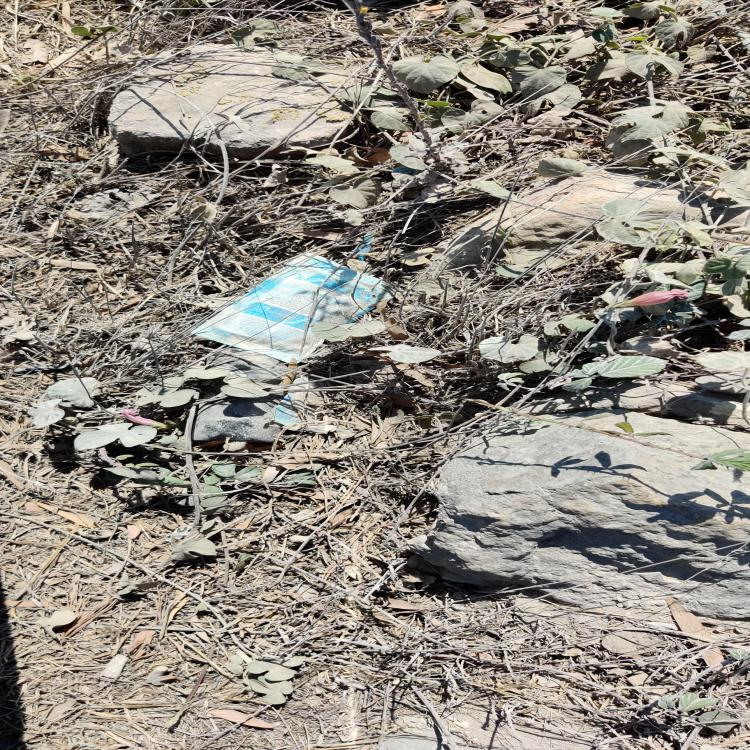Glass bottle: (192, 348, 288, 444)
Other carton: (266, 374, 353, 438)
Other plastic: (188, 250, 396, 364)
